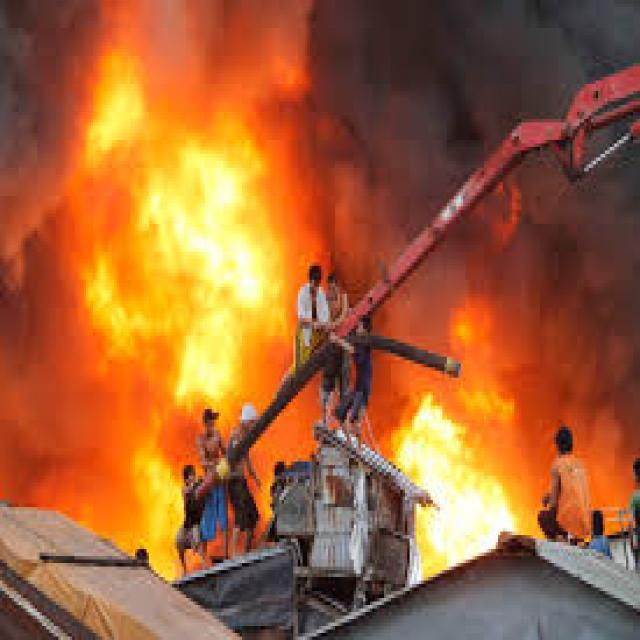Fire: (306, 2, 640, 282), (122, 165, 277, 396), (402, 398, 512, 581), (61, 404, 184, 546)
